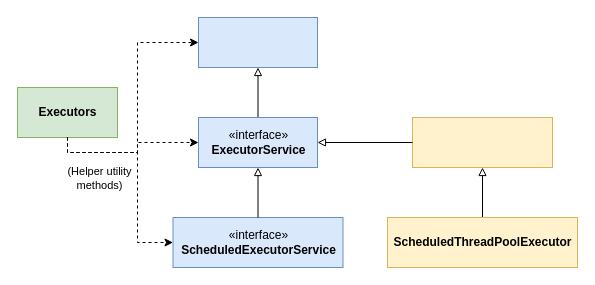
The diagram is 595 pixels wide and 285 high, and some of its shapes have lost their labels. The shapes that lost their labels are listed below. From the top down, each one's centre as x and y in pixels, then its label:
point (258, 42): «interface» Executor
point (482, 142): ThreadPoolExecutor
